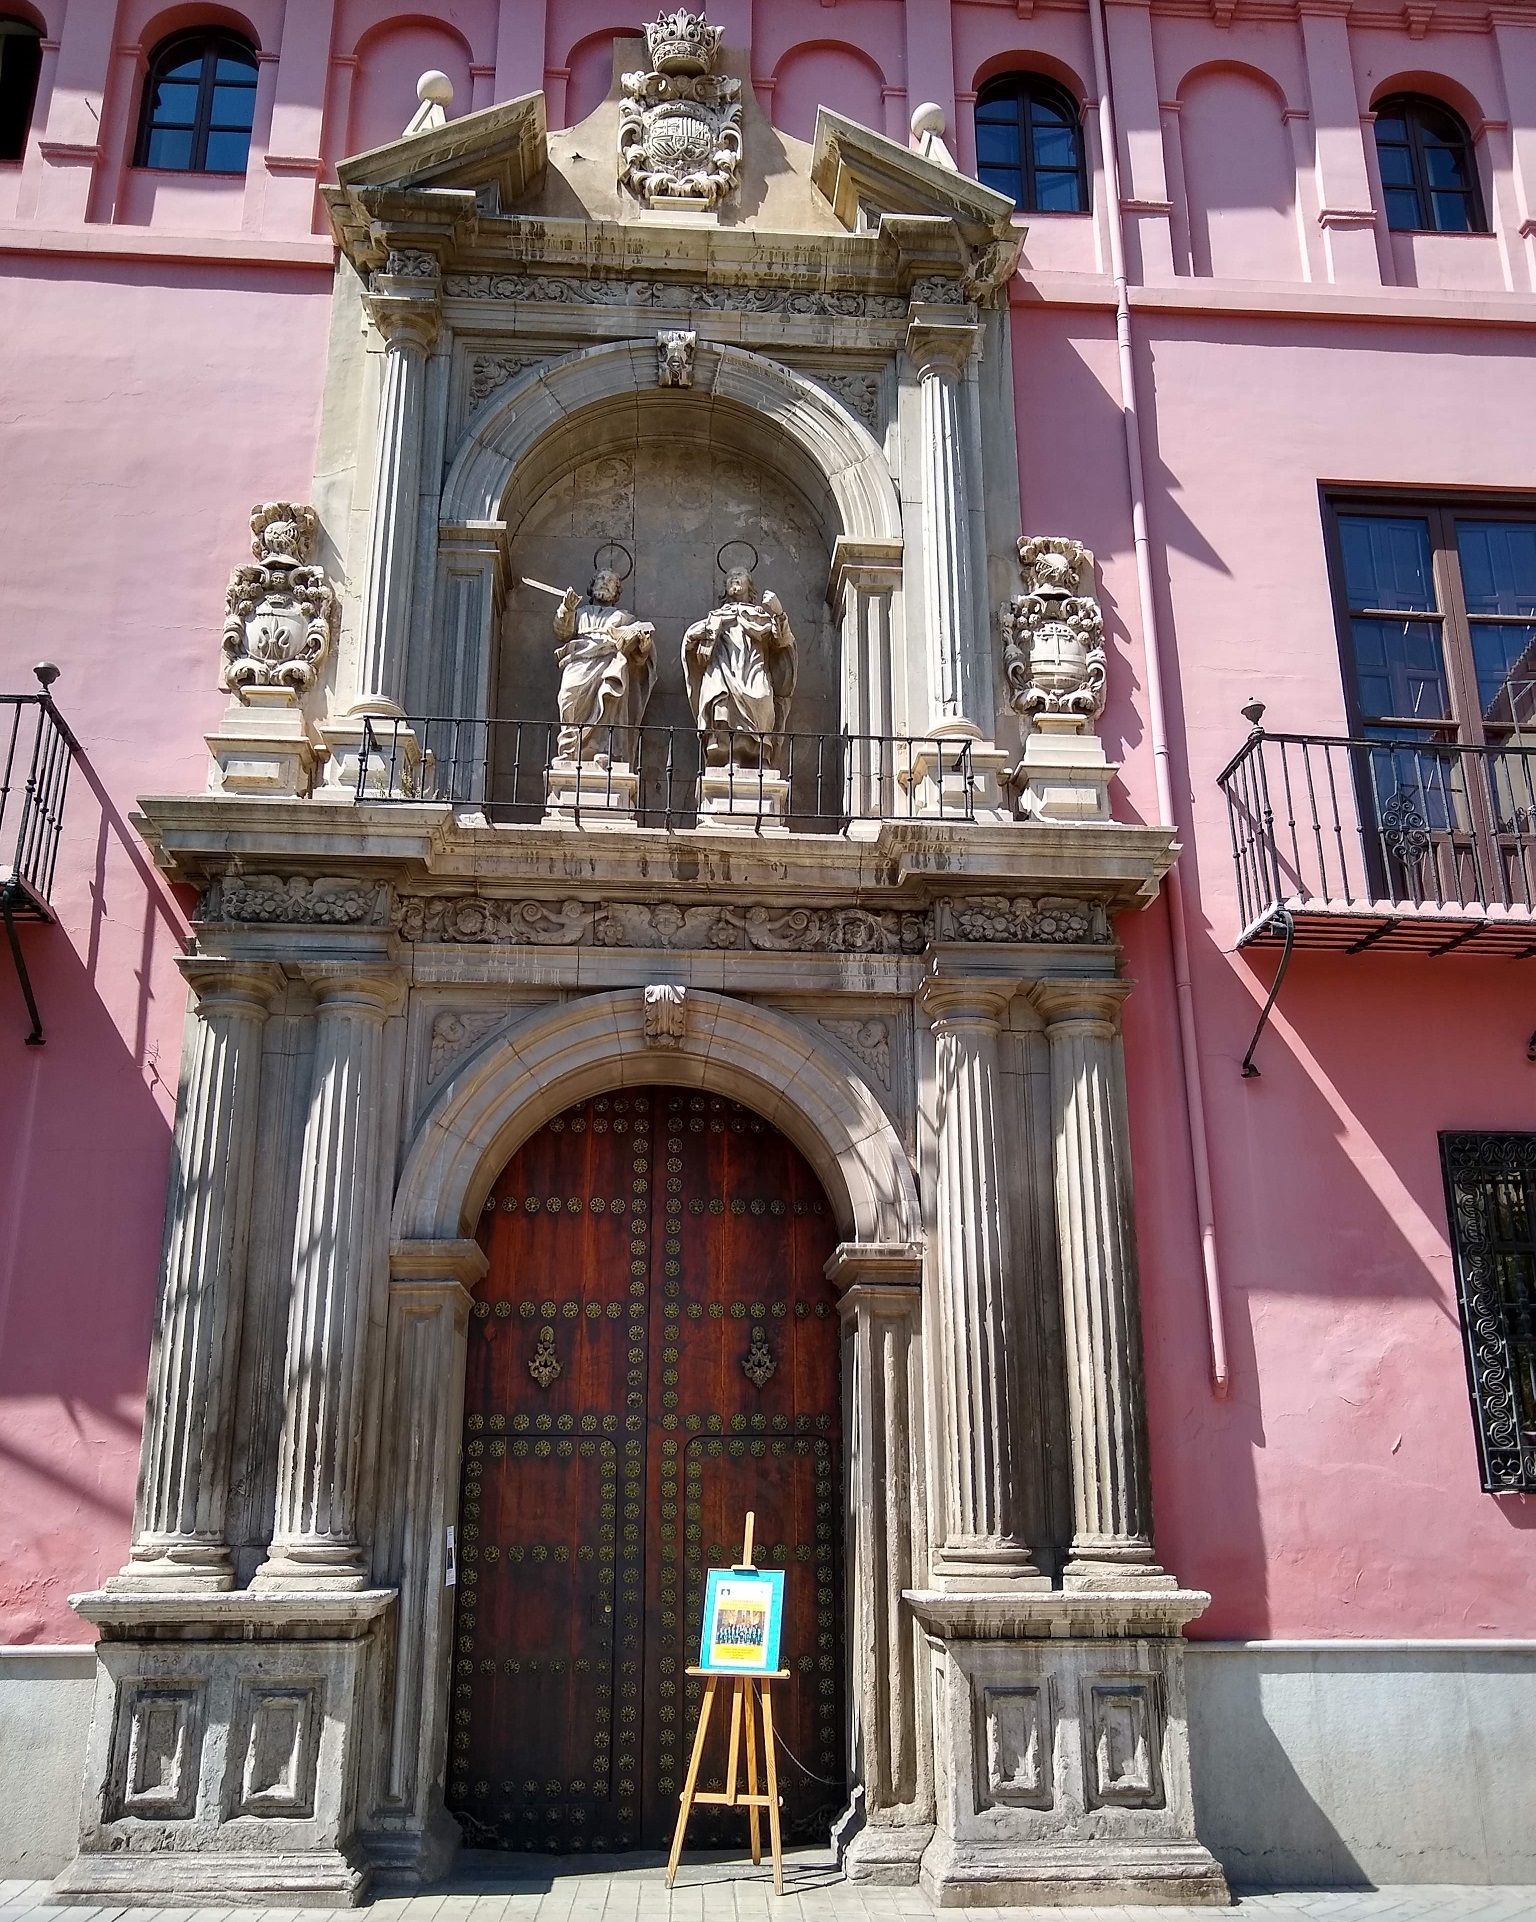arco-medio-punto: (442, 1046, 887, 1361), (473, 376, 868, 621)
fronton-partido: (321, 75, 1038, 284)
